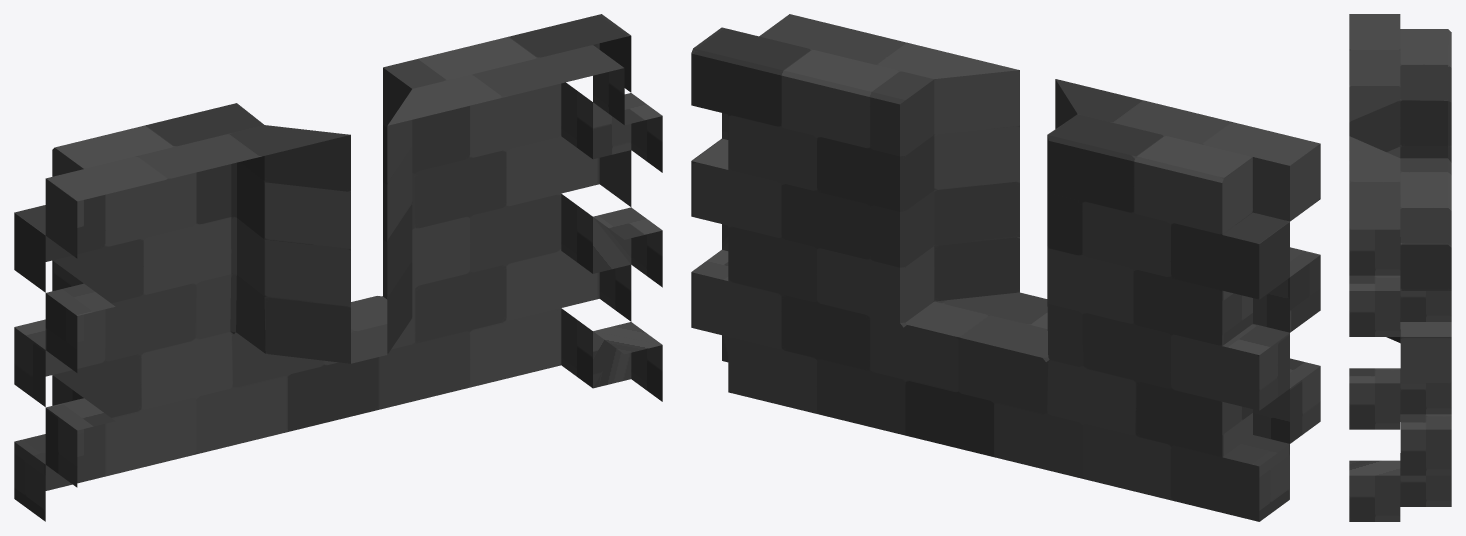
The model's file is Top Slot.obj.
The picture shows the model from 3 angles, left to right: view 1: azimuth 30°, elevation 25°; view 2: azimuth 150°, elevation 25°; view 3: azimuth 270°, elevation 25°; orthographic projection. The views are drawn at different scales.
Parts seen in each view (by area): view 1: Top_Slot_0_Intact; view 2: Top_Slot_0_Intact; view 3: Top_Slot_0_Intact.
Boxes of the visible parts, bbox=[...] form: Top_Slot_0_Intact: bbox=[14, 14, 662, 521]; Top_Slot_0_Intact: bbox=[691, 14, 1320, 521]; Top_Slot_0_Intact: bbox=[1349, 14, 1451, 521].
Size of the model in its own units: 1.61 by 0.9 by 0.3.
